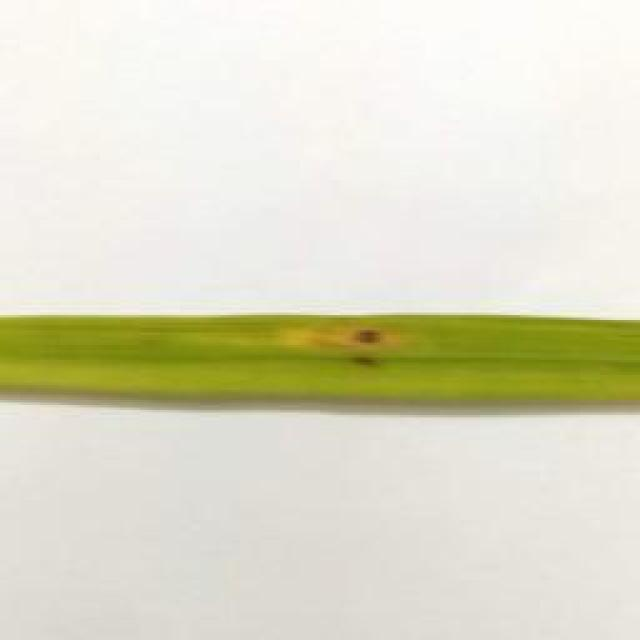Brown_Spot: (311, 318, 417, 354)
